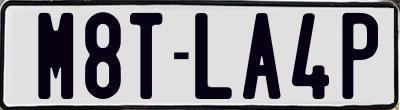4: (289, 10, 331, 99)
8: (85, 11, 127, 103)
A: (240, 12, 282, 102)
L: (194, 12, 237, 101)
M: (36, 13, 71, 101)
P: (341, 10, 380, 96)
T: (127, 11, 163, 99)
